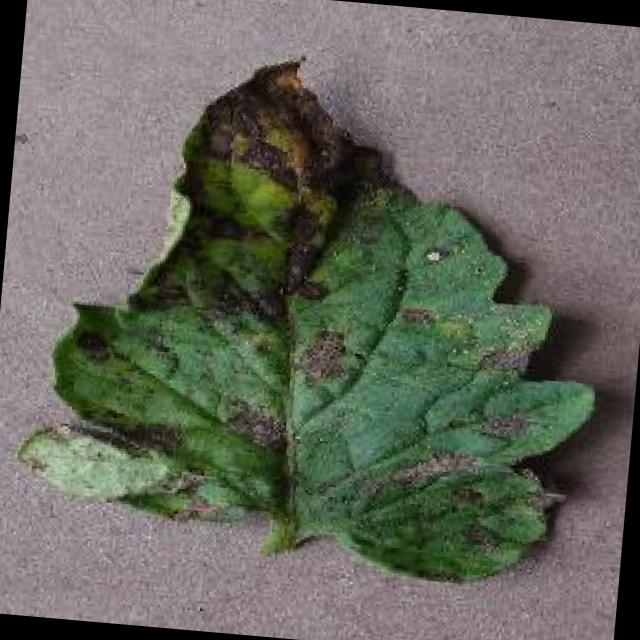Tomato_Early_Blight: (27, 29, 630, 592)
